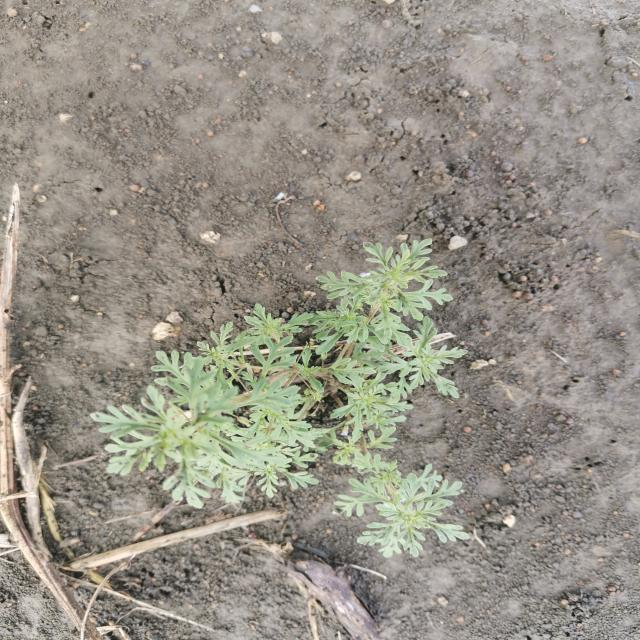Ragweed: (84, 237, 474, 561)
